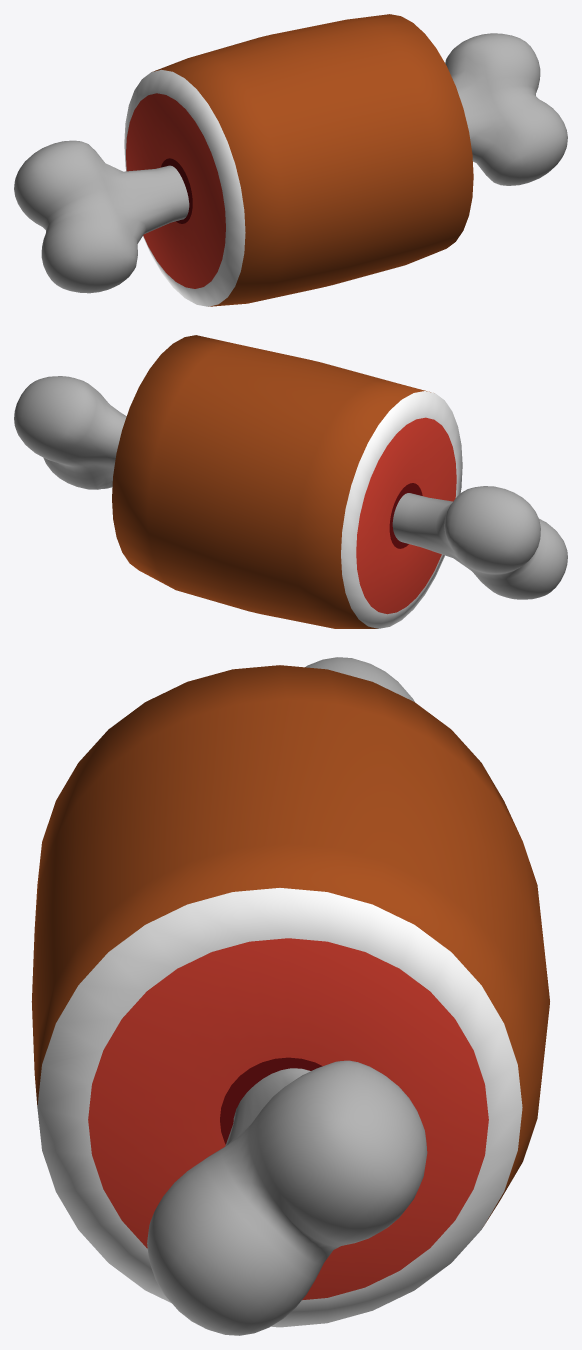
Rendered from Hueso.fbx.
3 views of the same model, one above another, from view 1: azimuth 30°, elevation 25°; view 2: azimuth 150°, elevation 25°; view 3: azimuth 270°, elevation 25° (orthographic). The views are drawn at different scales.
Visible parts, largest first — view 1: Hcarne, hUESO; view 2: Hcarne, hUESO; view 3: Hcarne, hUESO.
Boxes of the visible parts, left/top/right/bottom form: Hcarne: left=124, top=14, right=473, bottom=306; hUESO: left=14, top=33, right=567, bottom=293; Hcarne: left=112, top=335, right=462, bottom=628; hUESO: left=14, top=376, right=567, bottom=599; Hcarne: left=31, top=665, right=549, bottom=1327; hUESO: left=147, top=657, right=427, bottom=1335.
Size of the model in its own units: 169 by 73.84 by 73.84.
